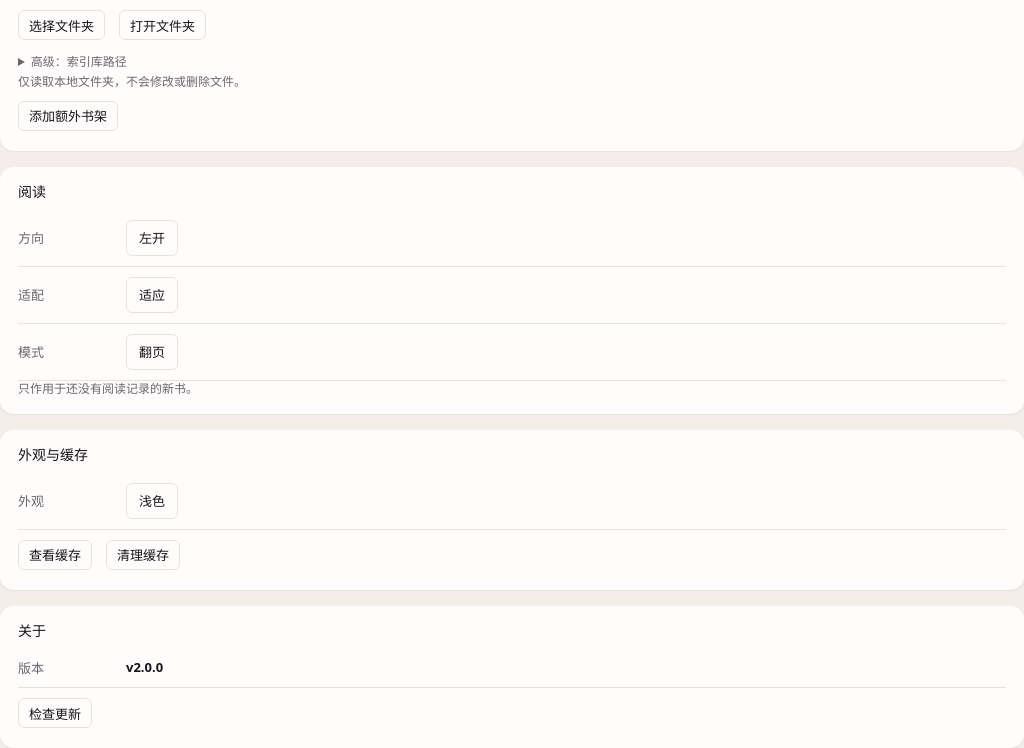
Test: SettingsView version & local update › shows empty state when no installer packages exist
(page scrolled)
What coordinates should you click on to do the following:
click the button "检查更新"
I would click on:
 (55, 713)
Its box is [18,698,92,728].
(page scrolled)
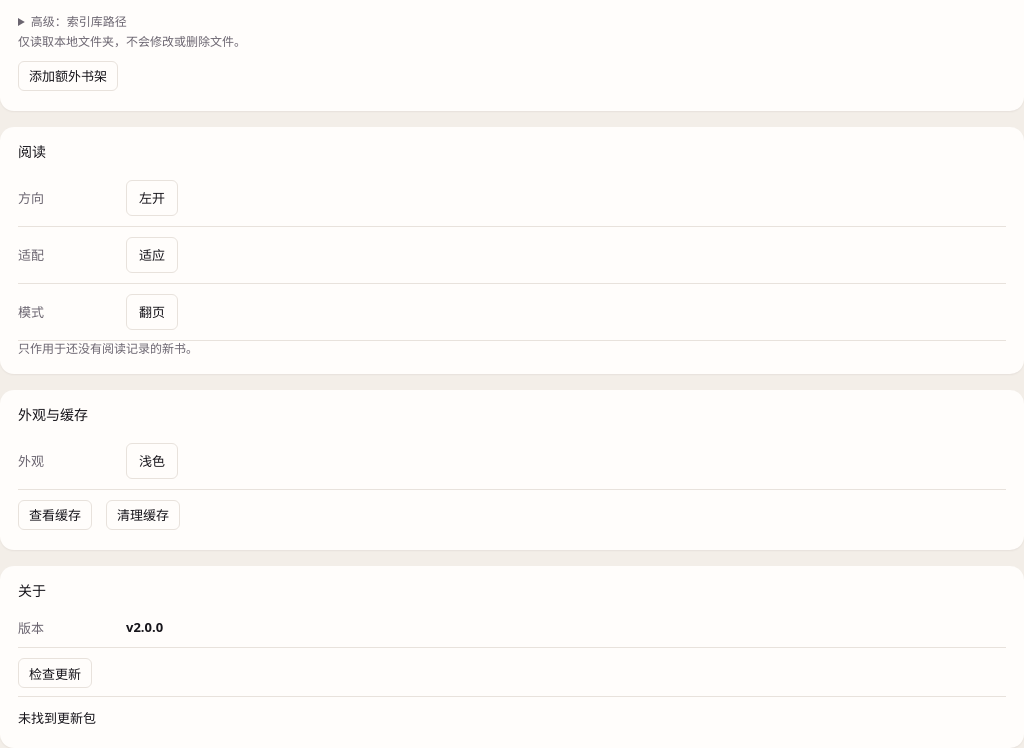
Check: the text with test id "update-status" reads "未找到更新包", box [18,709,96,727]
